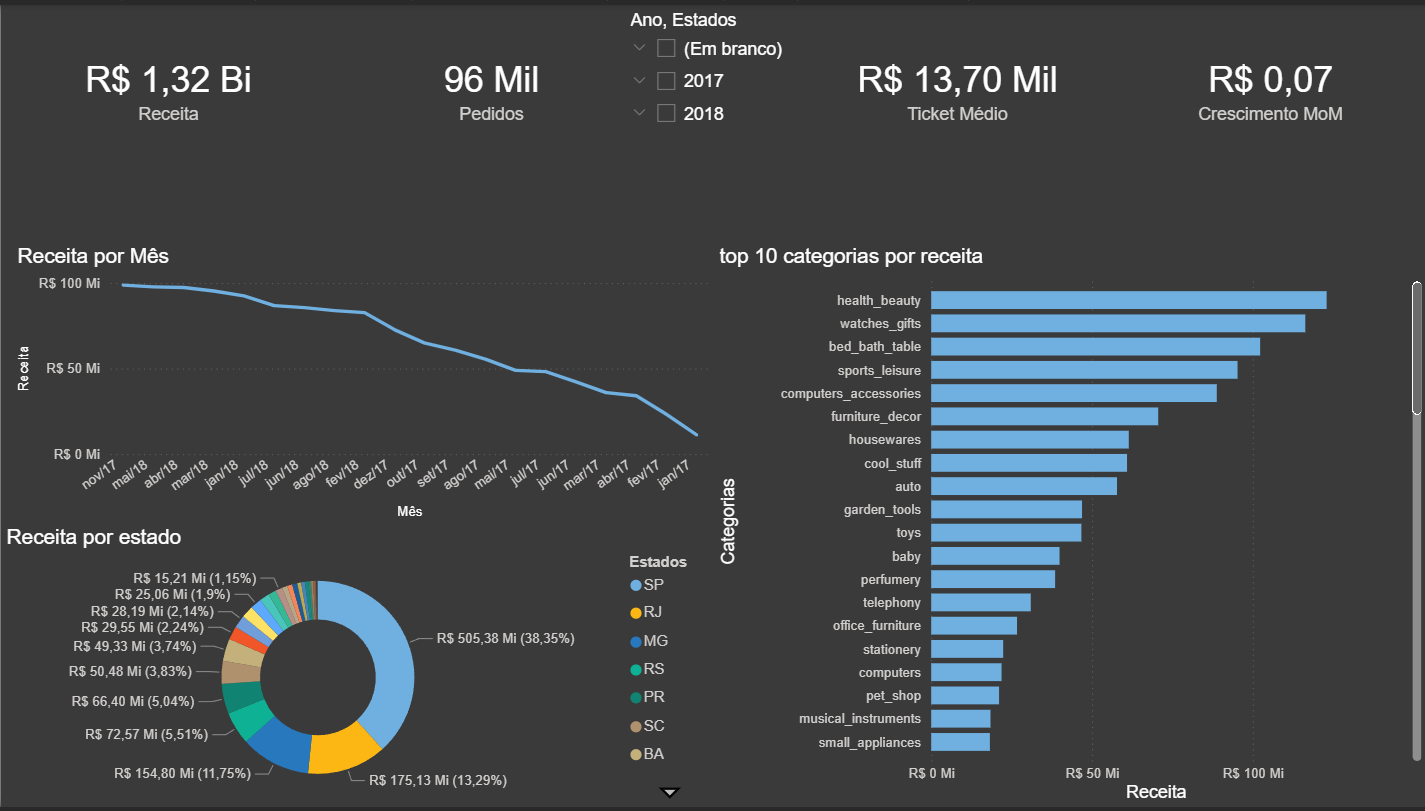

The dashboard page shown, as its layout file describes it:
{"tool":"powerbi","page":{"name":"Visão Geral de Vendas","canvas":[1280,720],"ordinal":0},"visuals":[{"type":"card","fields":{"Values":["order_items.Receita"]},"box":[9.5,0,281.1,150],"z":0},{"type":"card","fields":{"Values":["order_items.Ticket Médio"]},"box":[727.2,0,272,149.9],"z":1000},{"type":"card","fields":{"Values":["order_items.Pedidos"]},"box":[299.9,0,252.3,149.9],"z":2000},{"type":"card","fields":{"Values":["order_items.Crescimento MoM"]},"box":[998.9,0,281.1,150],"z":3000},{"type":"lineChart","title":"Receita por Mês","fields":{"Category":["dCalendario.AnoMês"],"Y":["order_items.Receita"]},"box":[9.5,214.6,630.5,252.6],"z":4000},{"type":"barChart","title":"Categorias por receita","fields":{"Category":["products.product_category_name_english"],"Y":["order_items.Receita"]},"box":[640.2,214.9,640.2,505.1],"z":5000},{"type":"donutChart","title":"Receita por estado","fields":{"Category":["customers.customer_state"],"Y":["order_items.Receita"]},"box":[0,467.2,640,252.6],"z":6000},{"type":"slicer","fields":{"Values":["dCalendario.Ano","customers.customer_state"]},"box":[552.4,0,175.2,150.5],"z":7000}]}

Visuals, with their boxes in screenshot pixels (x1, y1, x2, y2), scaled from the page's 1280x720 canvas onto the 1425x811 screenshot:
card - order_items.Receita: [left=11, top=0, right=324, bottom=169]
card - order_items.Ticket Médio: [left=810, top=0, right=1112, bottom=169]
card - order_items.Pedidos: [left=334, top=0, right=615, bottom=169]
card - order_items.Crescimento MoM: [left=1112, top=0, right=1424, bottom=169]
"Receita por Mês" lineChart: [left=11, top=242, right=712, bottom=526]
"Categorias por receita" barChart: [left=713, top=242, right=1424, bottom=810]
"Receita por estado" donutChart: [left=0, top=526, right=712, bottom=810]
slicer - dCalendario.Ano x customers.customer_state: [left=615, top=0, right=810, bottom=170]
